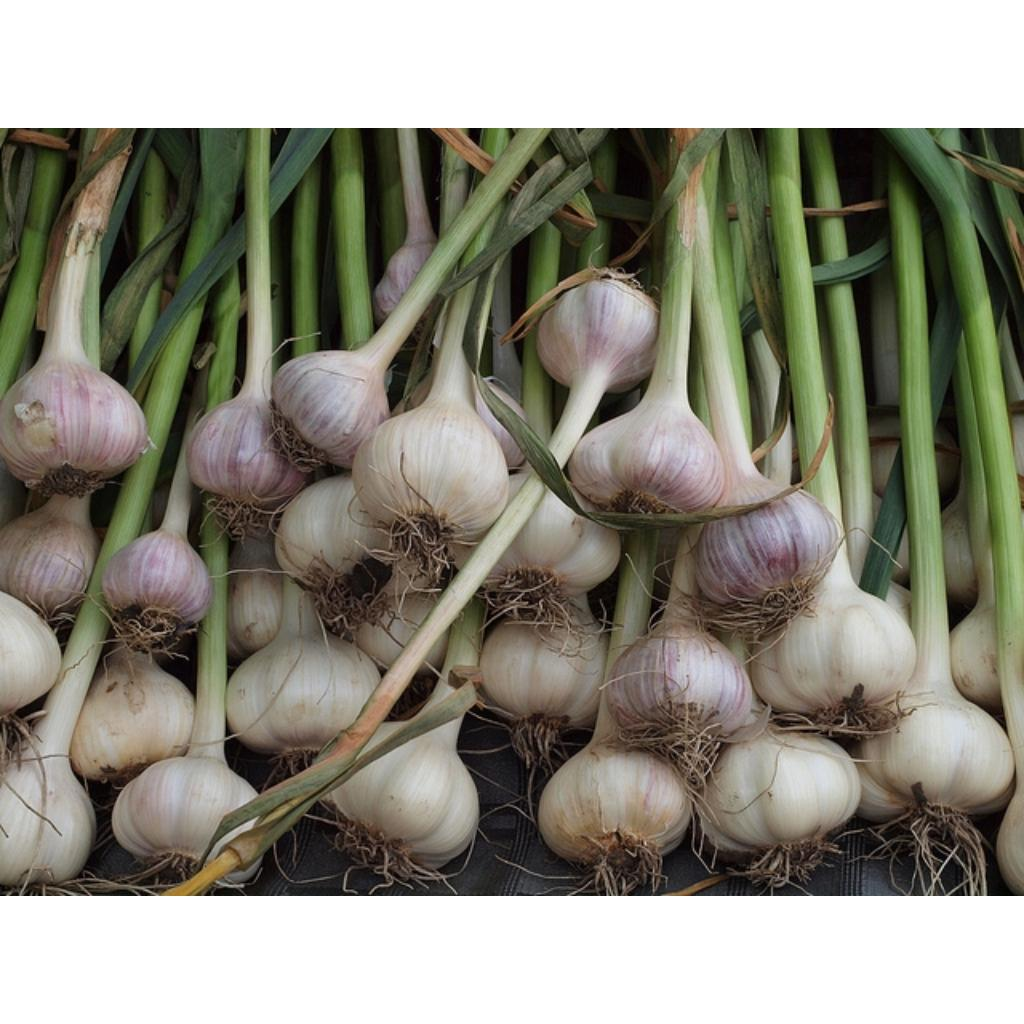garlic: (0, 308, 199, 883), (860, 158, 1014, 811), (274, 128, 549, 468), (336, 474, 546, 751), (0, 148, 148, 497), (112, 510, 256, 858), (186, 128, 308, 536), (568, 192, 724, 511), (352, 282, 508, 586), (750, 544, 916, 713), (226, 576, 380, 753), (606, 618, 756, 791), (328, 718, 478, 881), (538, 742, 692, 894), (538, 274, 658, 465), (767, 128, 828, 469), (70, 648, 194, 779), (696, 492, 840, 603), (480, 606, 606, 727), (112, 760, 258, 860), (0, 494, 100, 613), (102, 528, 212, 623), (182, 128, 236, 269), (424, 600, 484, 709), (806, 446, 840, 521)
